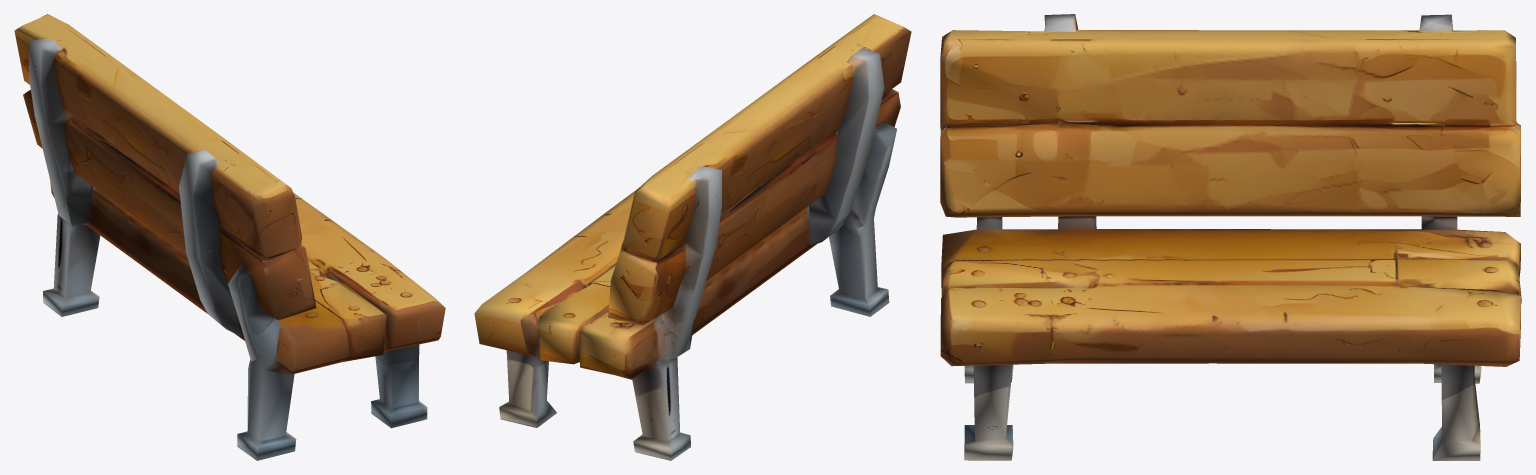
File: bench.glb
The picture shows the model from 3 angles, left to right: view 1: azimuth 30°, elevation 25°; view 2: azimuth 150°, elevation 25°; view 3: azimuth 270°, elevation 25°; orthographic projection. The views are drawn at different scales.
Parts seen in each view (by area): view 1: tripo_node_ec046ffb-3c72-4408-b6a5-40fdca4d14d9; view 2: tripo_node_ec046ffb-3c72-4408-b6a5-40fdca4d14d9; view 3: tripo_node_ec046ffb-3c72-4408-b6a5-40fdca4d14d9.
Part boxes in pixels (x1,y1,x2,y2): tripo_node_ec046ffb-3c72-4408-b6a5-40fdca4d14d9: [14, 14, 445, 460]; tripo_node_ec046ffb-3c72-4408-b6a5-40fdca4d14d9: [474, 14, 911, 460]; tripo_node_ec046ffb-3c72-4408-b6a5-40fdca4d14d9: [940, 14, 1521, 460].
Bounding box in the file's own units: 0.5082 × 0.6354 × 0.9975.
1 material, 1 textured.
